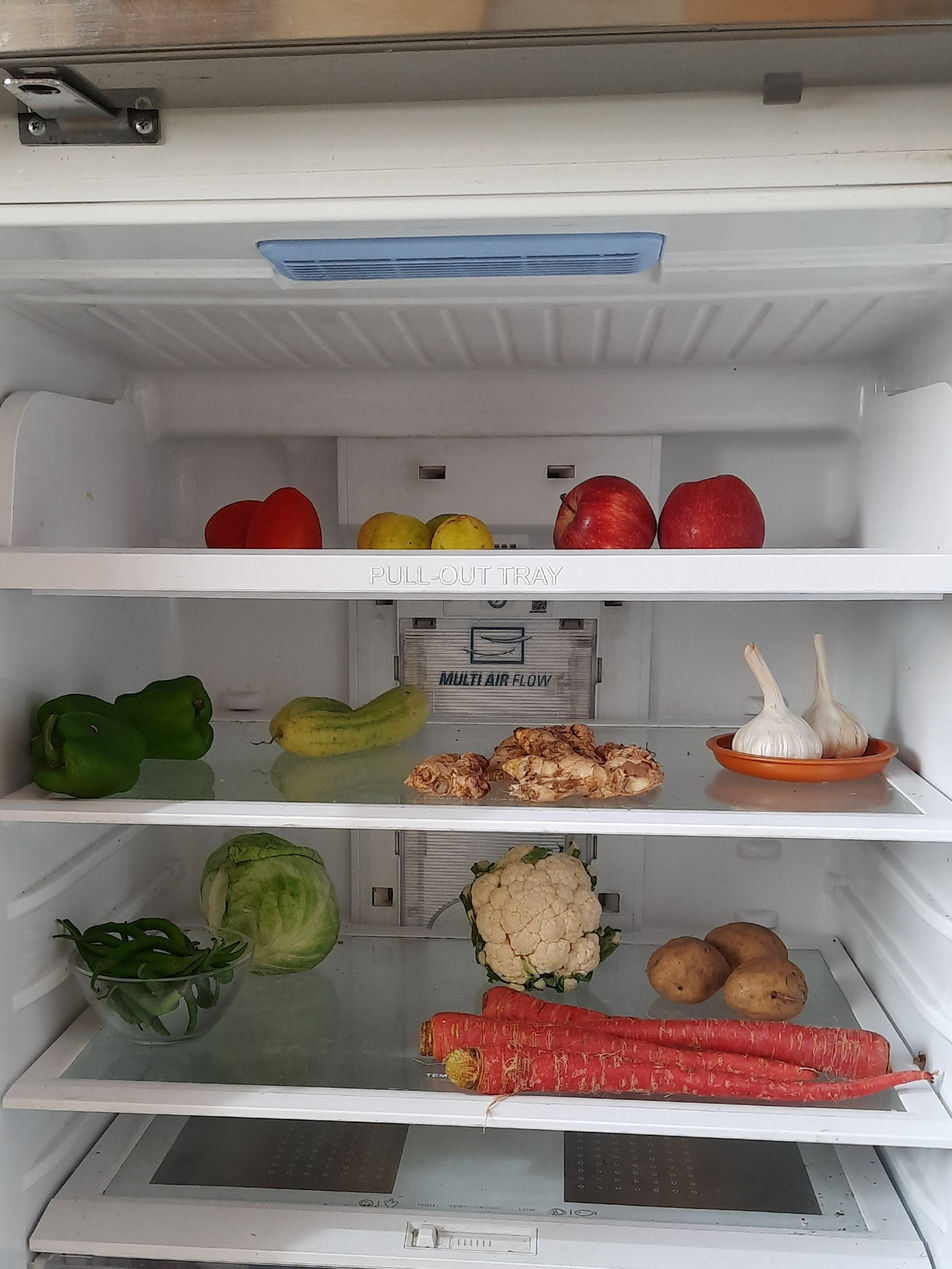apple: (556, 472, 768, 553)
cabbage: (196, 836, 339, 974)
capsicum: (26, 669, 213, 804)
carrots: (428, 1002, 924, 1124)
cauliflower: (466, 846, 606, 983)
chillies: (72, 912, 236, 1038)
cucumber: (268, 681, 436, 757)
garlic: (735, 629, 876, 763)
ginger: (413, 726, 669, 804)
lemon: (360, 507, 498, 553)
potato: (638, 917, 815, 1022)
tomato: (206, 481, 321, 547)
